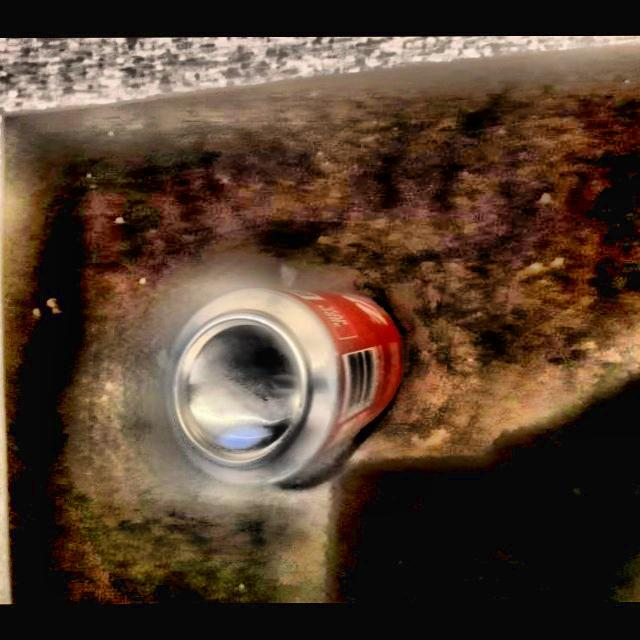coke-can: (162, 279, 396, 495)
